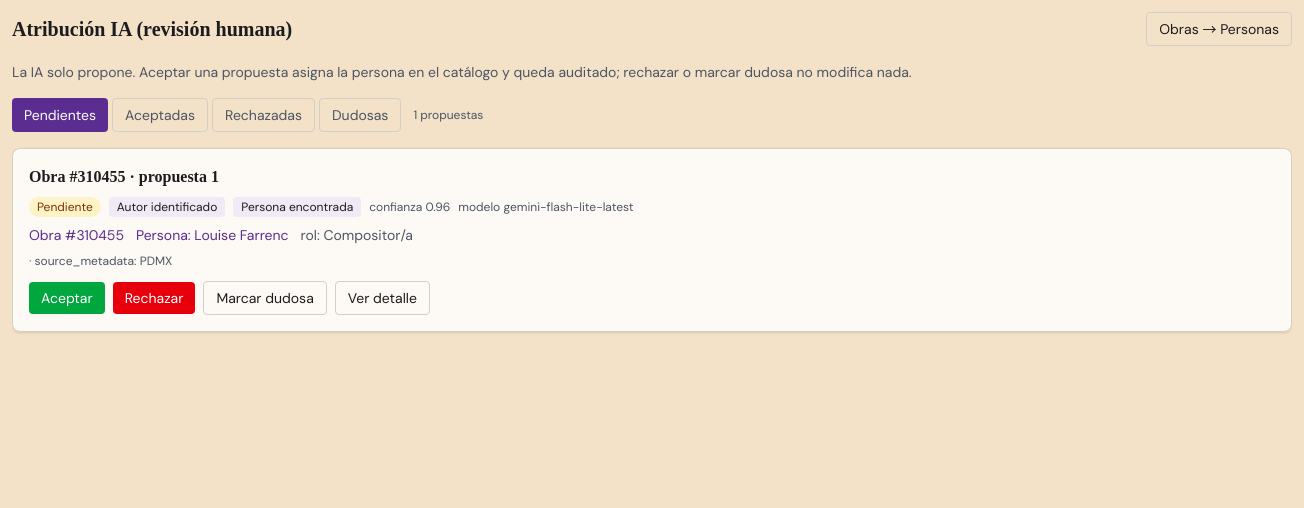
Test: AdminWorkPersonAiPage › muestra el detalle de la propuesta al desplegarlo
The width and height of the screenshot is (1304, 508).
Click the button "Ver detalle" at coordinates (382, 298), box [335,281,430,315]
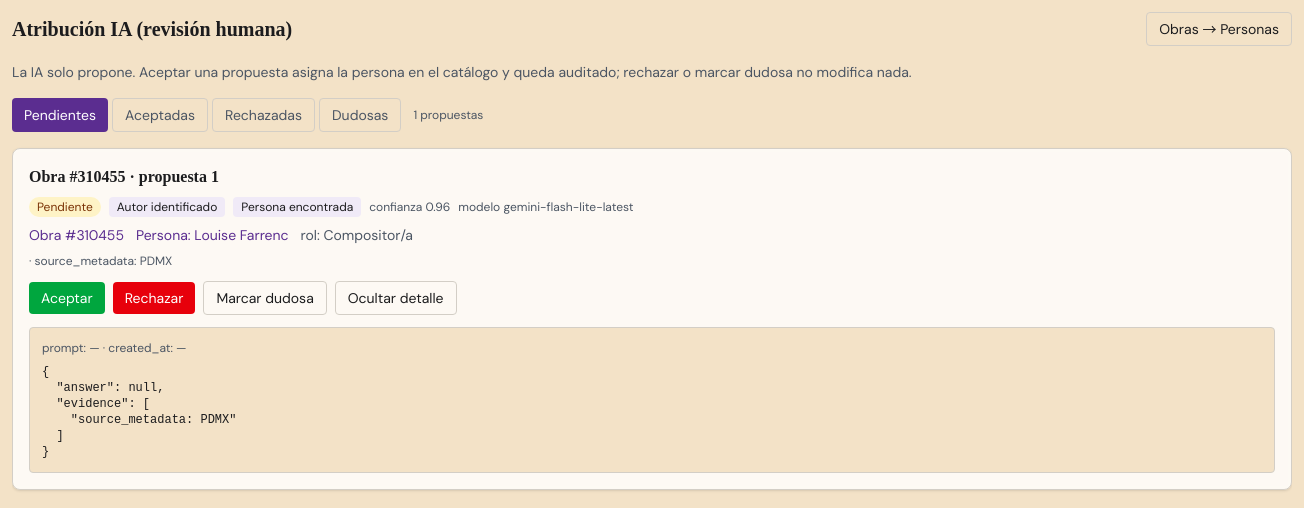
Expected: the text "prompt: — · created_at: —" is shown, [42,340,187,356]
